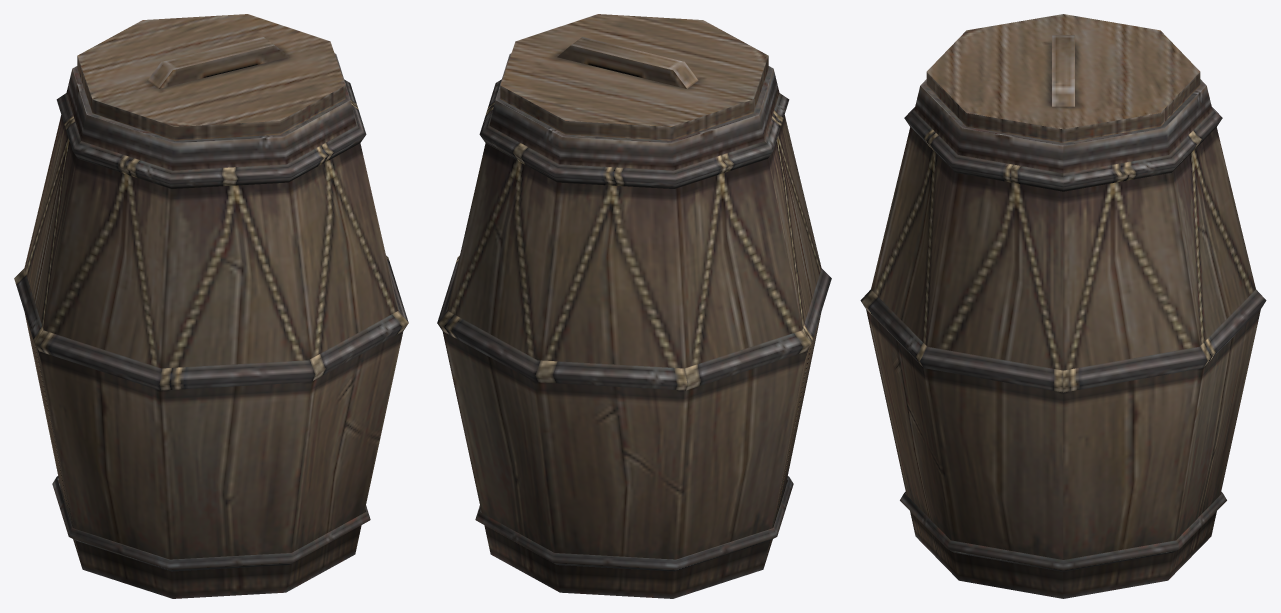
Rendered from tong001.FBX.
3 renders of one model, left to right at view 1: azimuth 30°, elevation 25°; view 2: azimuth 150°, elevation 25°; view 3: azimuth 270°, elevation 25°, orthographic.
Visible parts, largest first — view 1: TianYuan03_model_02_tong001; view 2: TianYuan03_model_02_tong001; view 3: TianYuan03_model_02_tong001.
Boxes of the visible parts, x1,y1,x2,y2 form: TianYuan03_model_02_tong001: (14, 14, 408, 598); TianYuan03_model_02_tong001: (437, 14, 831, 598); TianYuan03_model_02_tong001: (860, 14, 1266, 598).
Bounding box in the file's own units: 0.5412 × 0.7059 × 0.5412.
